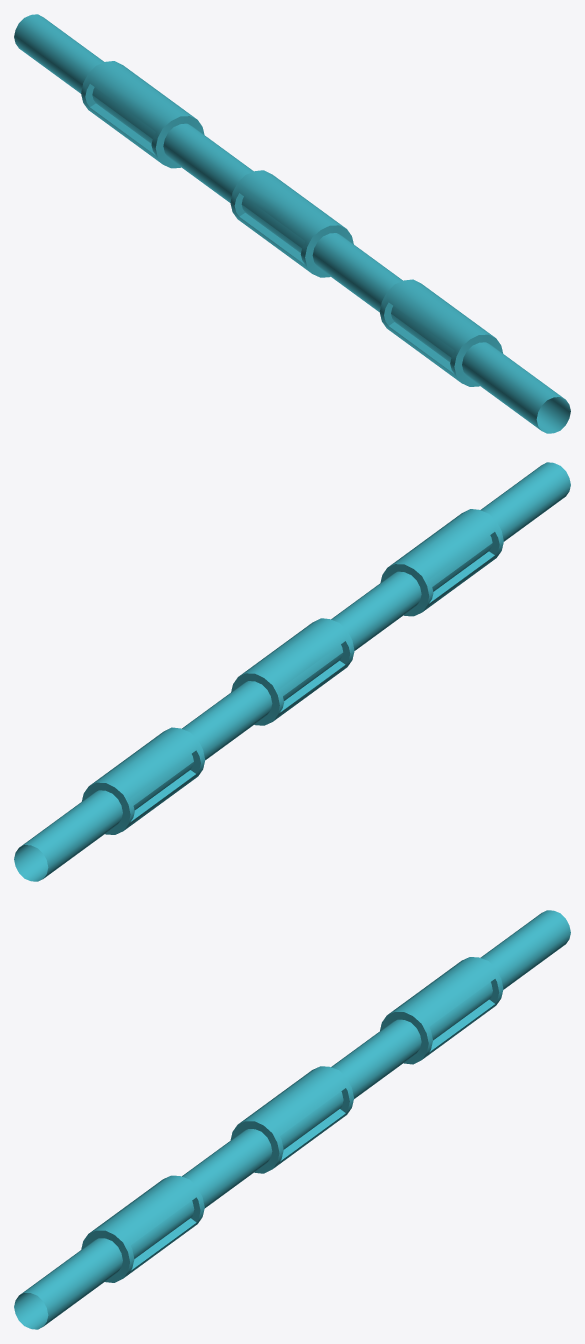
The model's file is M_TunnelPipe.FBX.
3 renders of one model, top to bottom at view 1: azimuth 30°, elevation 25°; view 2: azimuth 150°, elevation 25°; view 3: azimuth 330°, elevation 25°, orthographic.
Visible parts, largest first — view 1: tunnelpipe; view 2: tunnelpipe; view 3: tunnelpipe.
Part boxes in pixels (bbox=[...]): tunnelpipe: bbox=[14, 14, 570, 433]; tunnelpipe: bbox=[14, 462, 570, 881]; tunnelpipe: bbox=[14, 910, 570, 1329].
Bounding box in the file's own units: 31.39 × 31.39 × 578.
